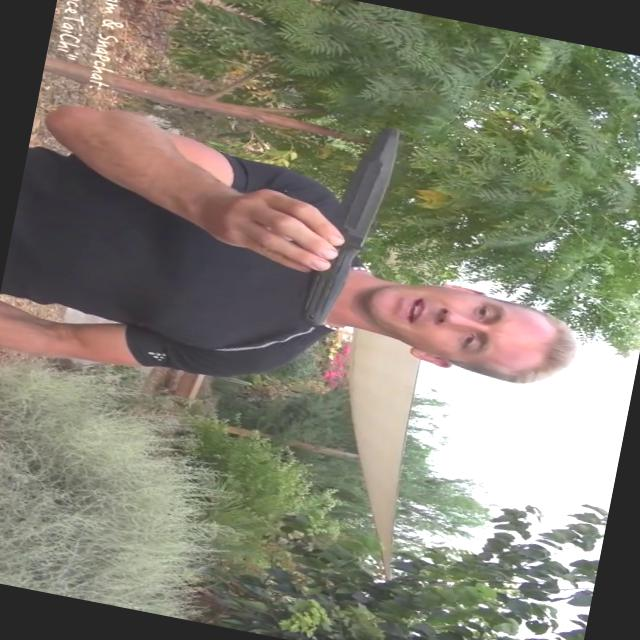knife: (292, 111, 421, 362)
